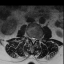CCS_normal: (32, 36, 34, 45)
LFS_stenosis: (36, 36, 38, 41)
LLS_normal: (34, 36, 36, 43)
RFS_stenosis: (29, 35, 30, 41)
RLS_normal: (30, 36, 32, 42)
